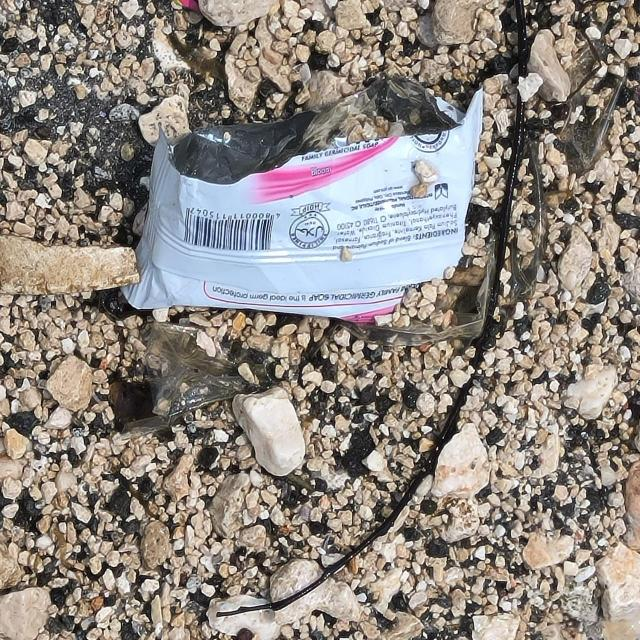plastic_waste: (131, 74, 486, 328)
